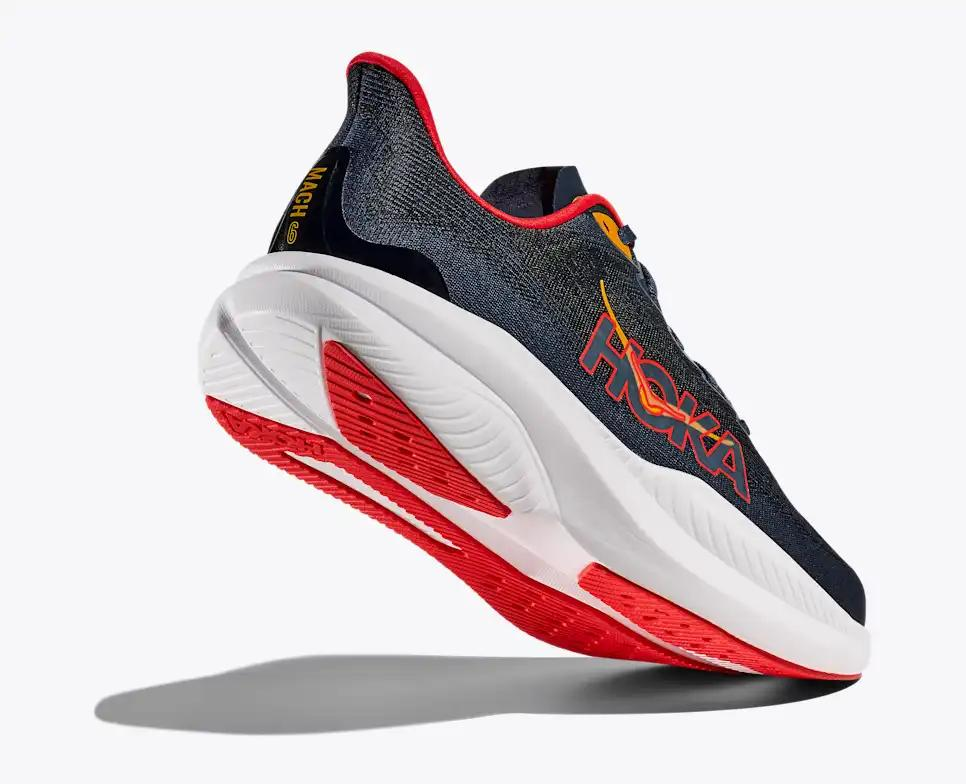hoka logo: (580, 295, 744, 499)
